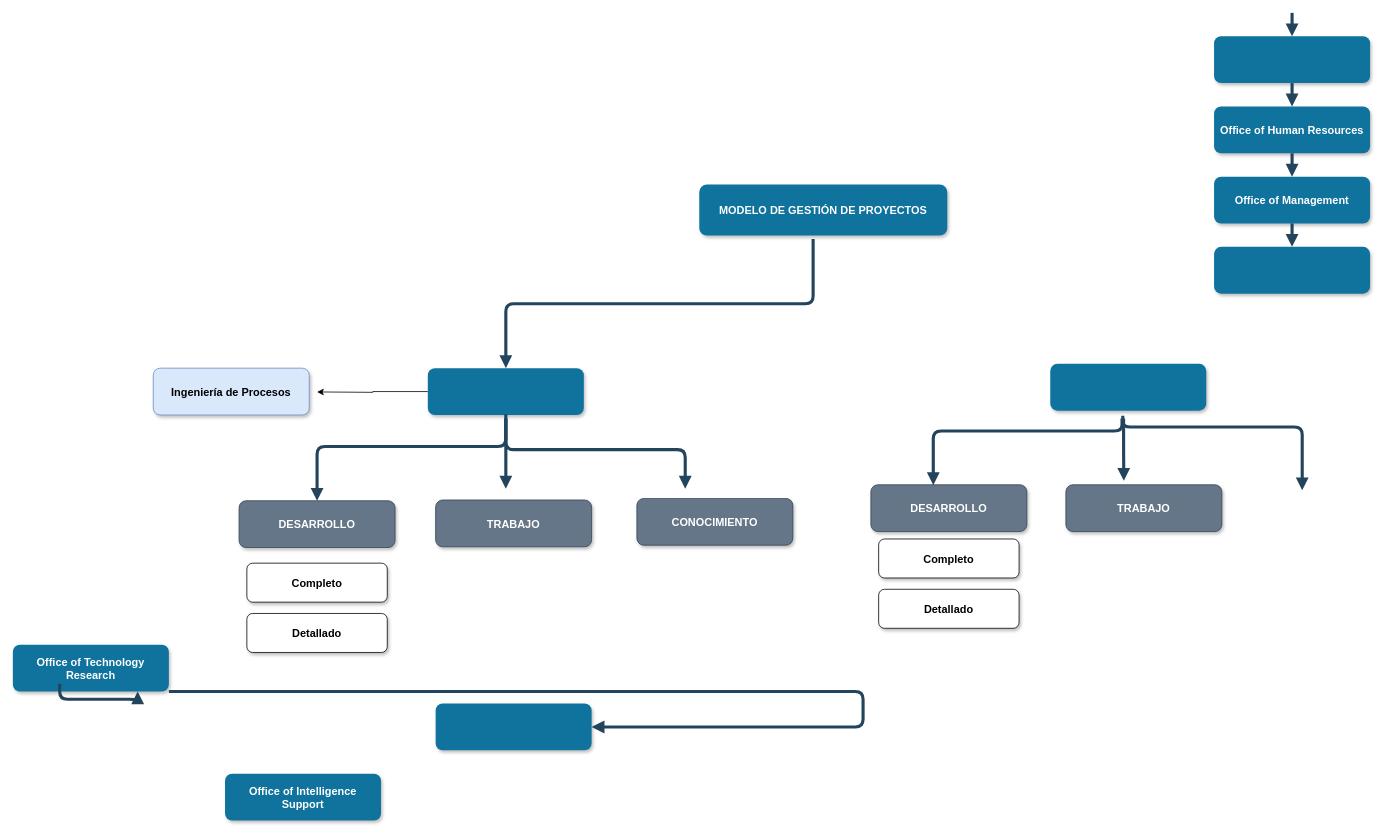
Some shapes in this 1383 by 833 pixel diagram are drawn without their labels. Each missing label, with the centre of its shape:
"GESTIÓN EVOLUTIVA" belongs at pixel 1129 388.
"GESTIÓN PREDICTIVA" belongs at pixel 506 392.
"Office of Data Services" belongs at pixel 514 727.
"Office of Financial Management" belongs at pixel 1292 60.
"Office of Training Services" belongs at pixel 1292 271.
